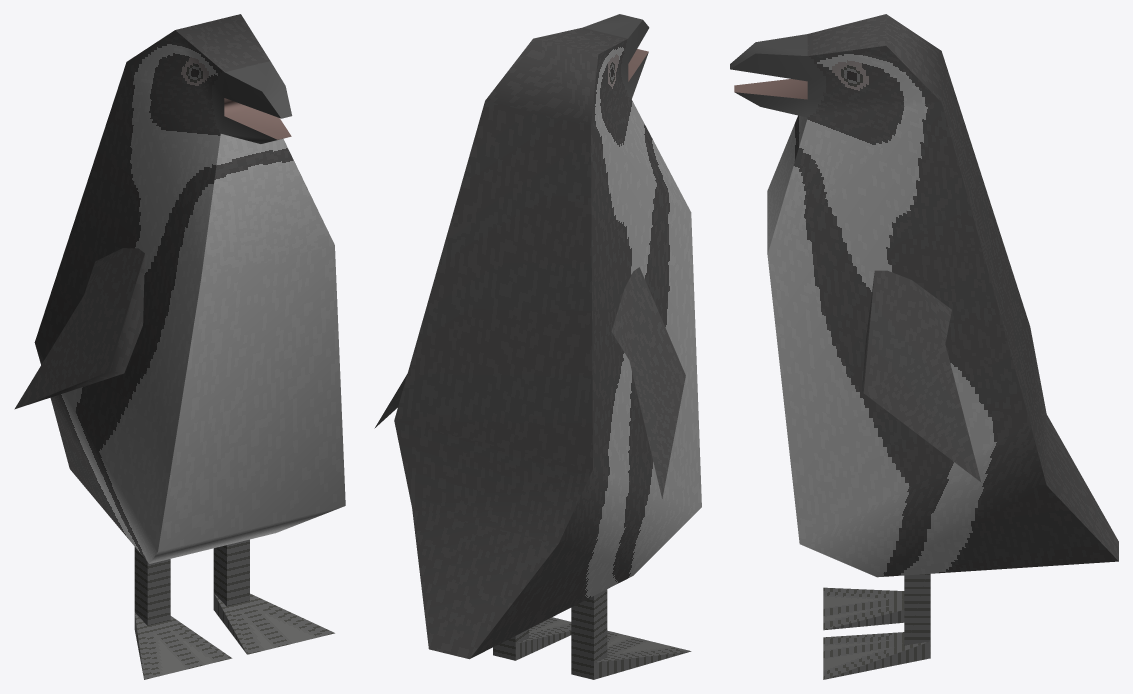
Rendered from 0406_Penguin.glb.
3 renders of one model, left to right at view 1: azimuth 30°, elevation 25°; view 2: azimuth 150°, elevation 25°; view 3: azimuth 270°, elevation 25°, orthographic.
Parts seen in each view (by area): view 1: part_0; view 2: part_0; view 3: part_0.
Boxes of the visible parts, x1,y1,x2,y2 form: part_0: (14, 14, 345, 679); part_0: (374, 14, 701, 679); part_0: (730, 14, 1118, 679).
Bounding box in the file's own units: 0.4001 × 0.802 × 0.4681.
Materials: 1 (1 with a texture image).
